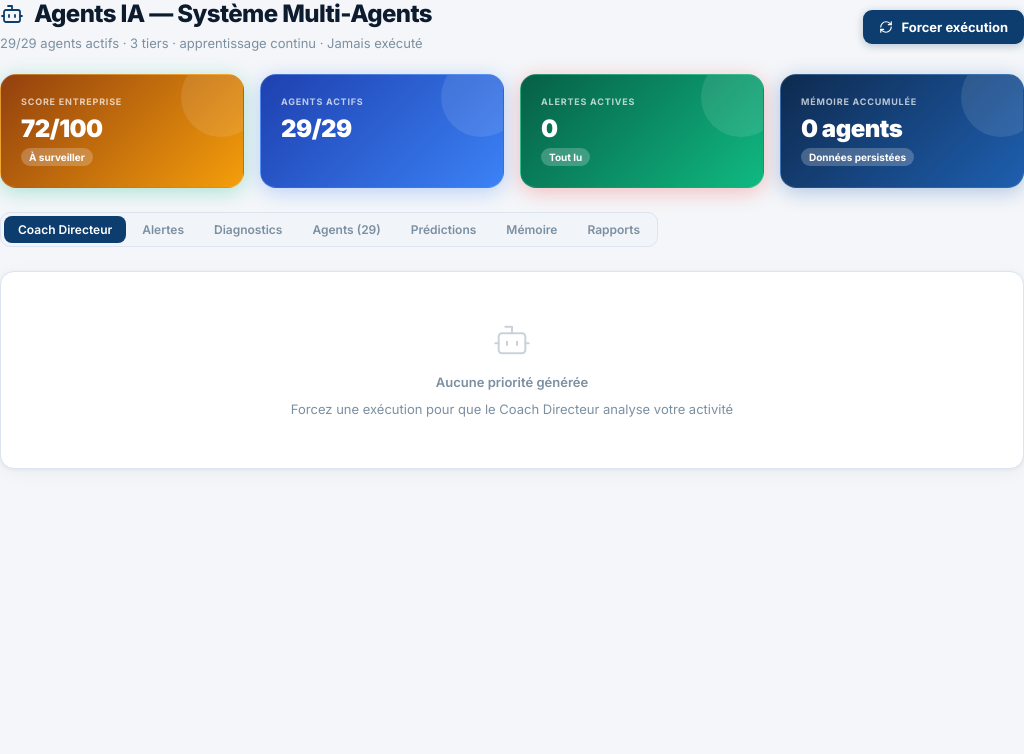
Scenario: SOUS-ONGLET RAPPORTS — aucune couleur violette › le rendu (résumé + briefing + historique) ne contient aucun violet
The image size is (1024, 754).
What coordinates should you click on to do the following:
click the button "Rapports"
I would click on:
 (614, 230)
Its box is 573,216 -> 654,243.
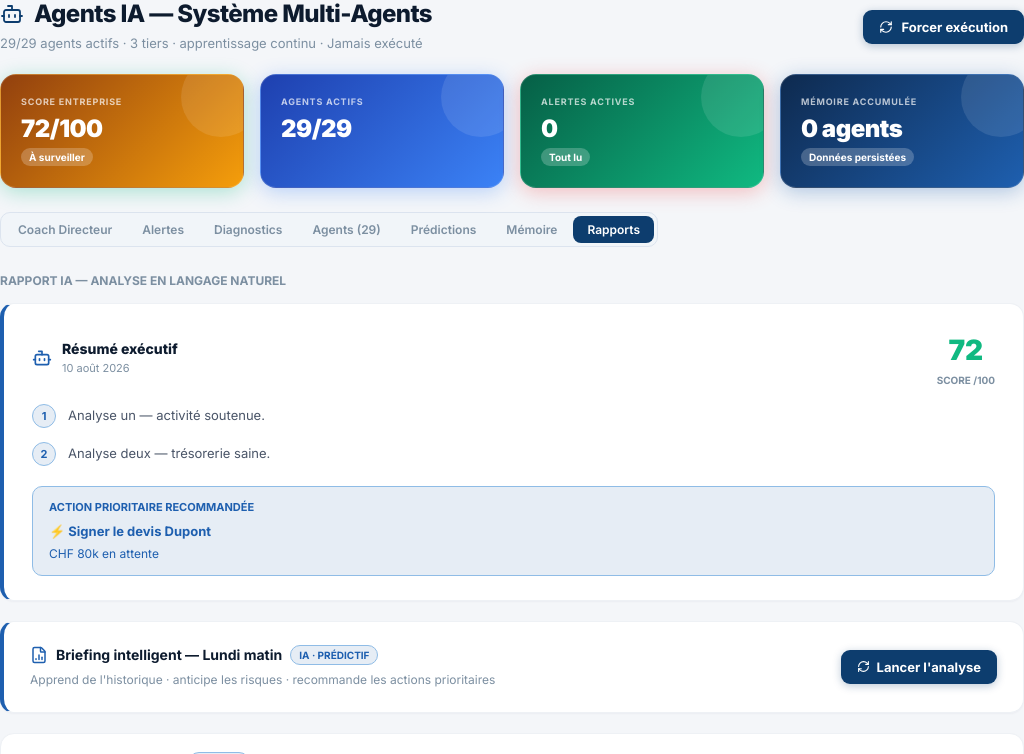
What coordinates should you click on to do the following:
click the button "Lancer l'analyse"
I would click on:
 (919, 667)
Its box is 841,650 -> 997,684.
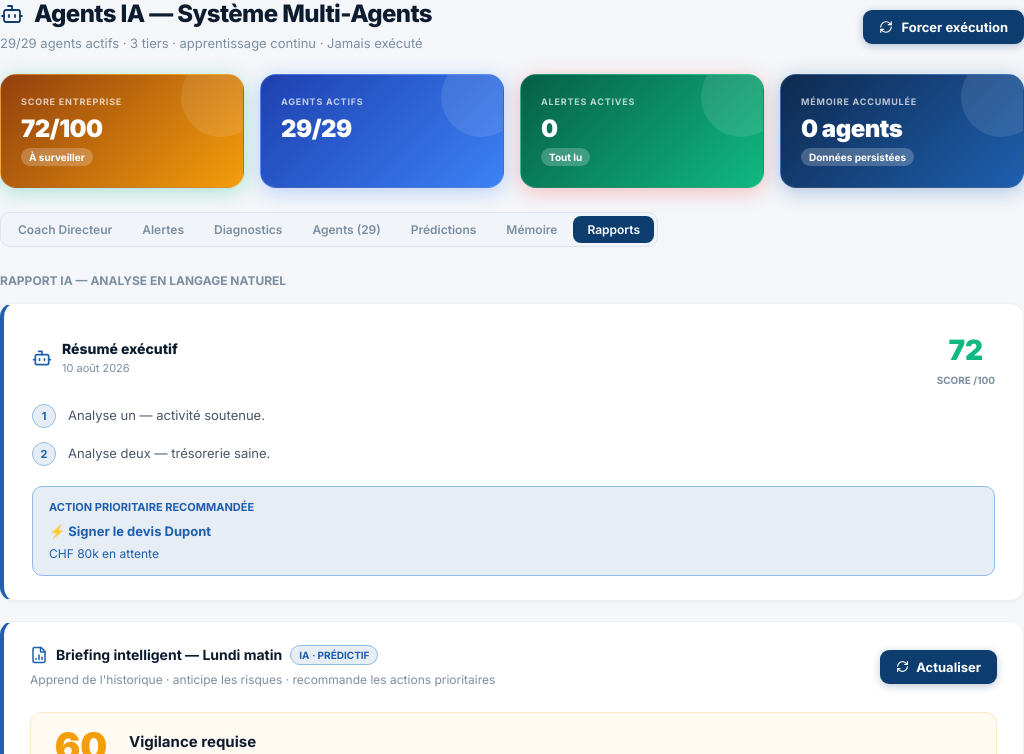
Check: the text "Vigilance requise" is shown, box 129,732 -> 256,751
